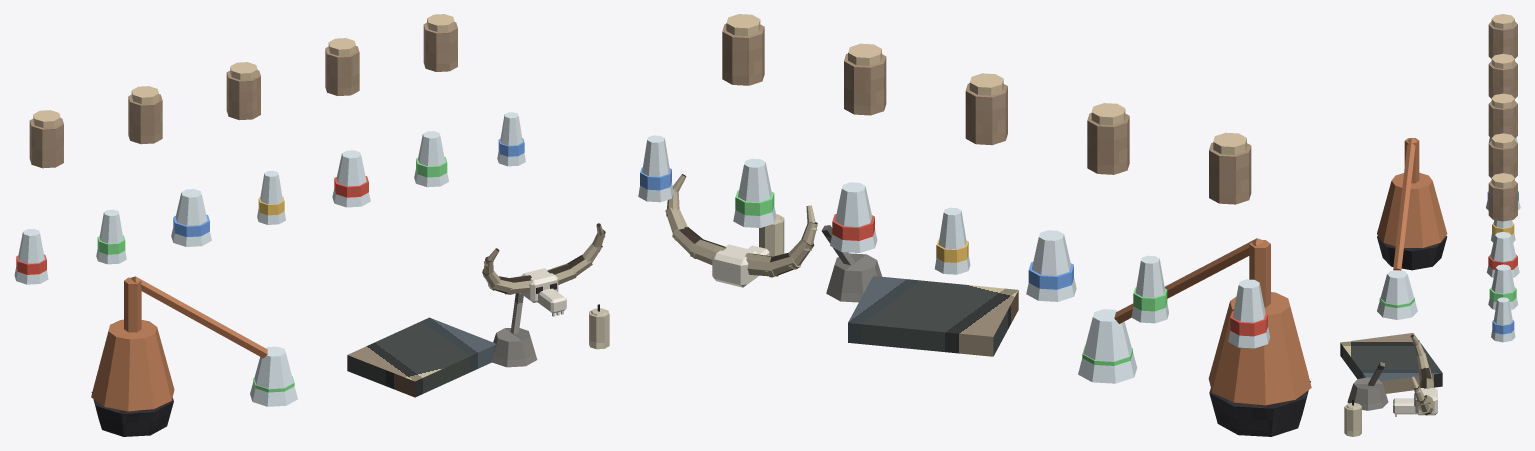
The model's file is alchemy_set_off.obj.
3 renders of one model, left to right at view 1: azimuth 30°, elevation 25°; view 2: azimuth 150°, elevation 25°; view 3: azimuth 270°, elevation 25°, orthographic. The views are drawn at different scales.
Parts seen in each view (by area): view 1: alchemy_set; view 2: alchemy_set; view 3: alchemy_set.
Part boxes in pixels (x1,y1,x2,y2): alchemy_set: (14, 14, 609, 436); alchemy_set: (638, 14, 1311, 436); alchemy_set: (1340, 14, 1520, 436).
Size of the model in its own units: 1.75 by 0.855 by 0.614.
